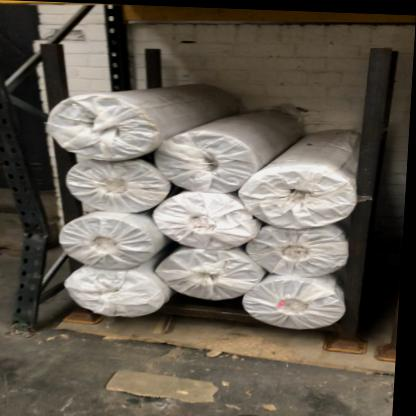vertical_damage: (1, 96, 72, 334)
